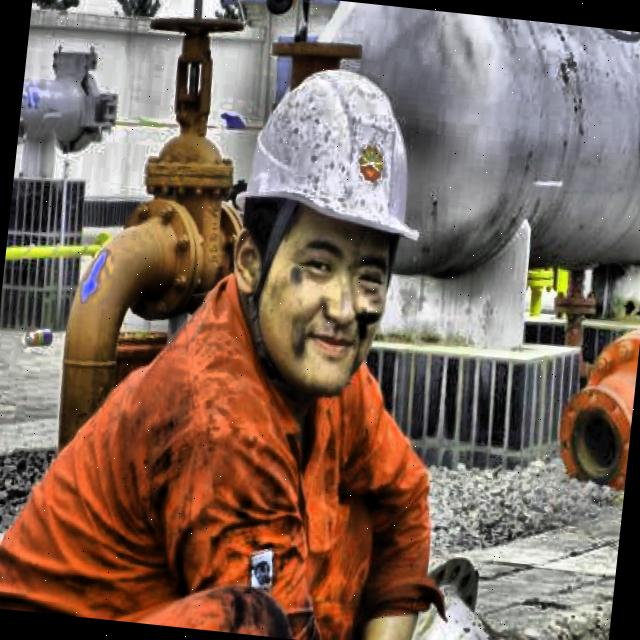helmet: (200, 44, 444, 420)
